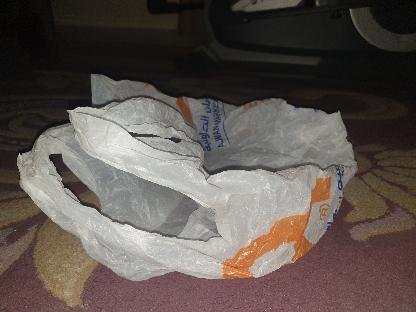Plastic Bag: (17, 73, 359, 283)
